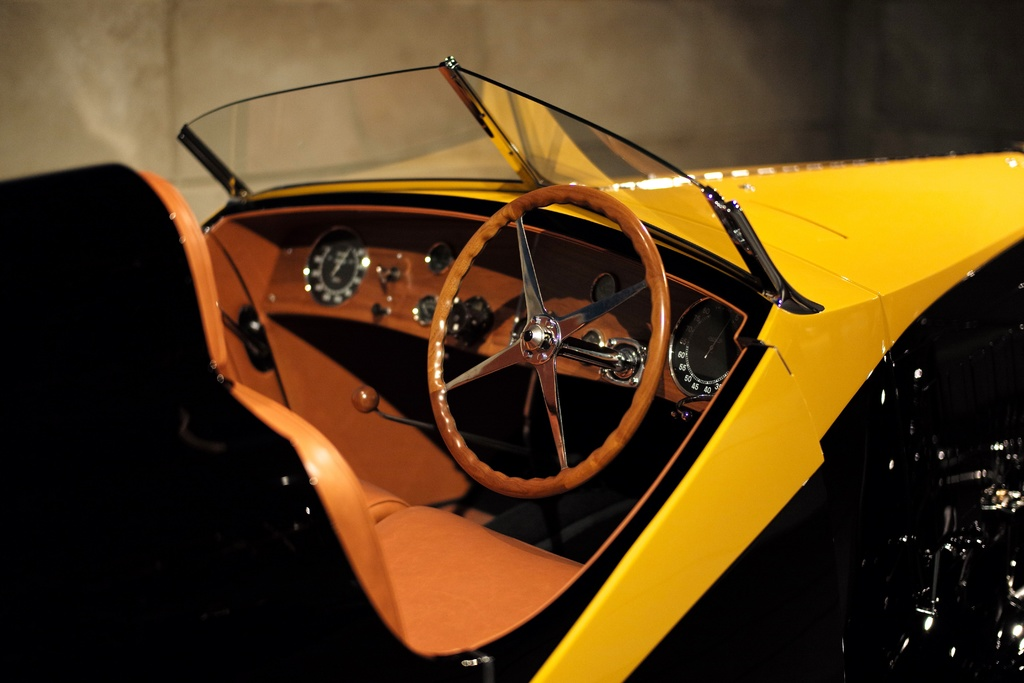Car: (1, 55, 1023, 682)
